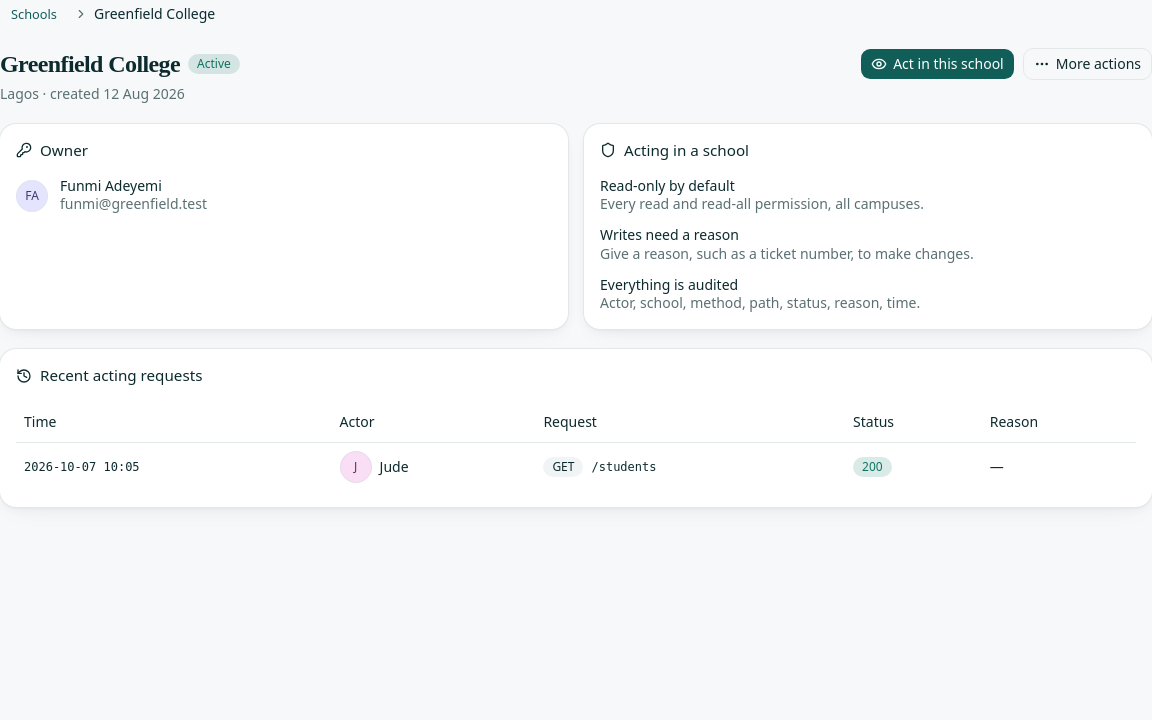
Test: Suspend dialog › shows a 409 and stays open
Click the button "More actions" at (1087, 64), box x1=1023 y1=48 x2=1151 y2=80
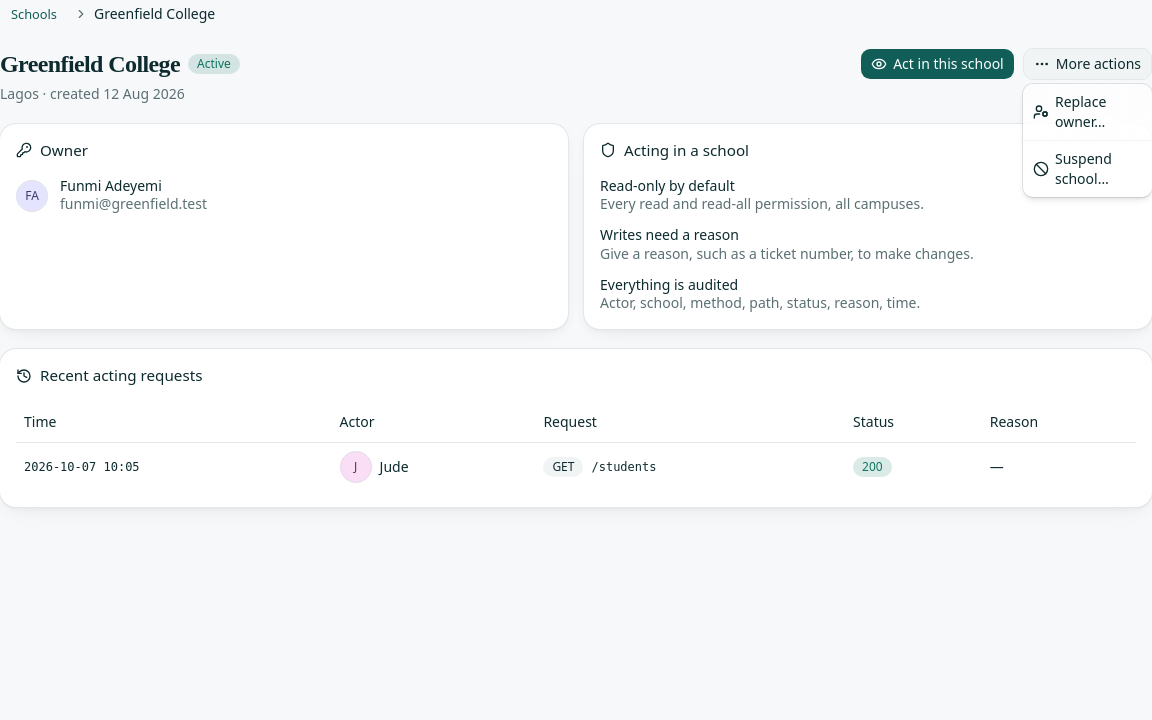
Click the menu item "Suspend school…" at (1072, 168), box x1=1033 y1=149 x2=1112 y2=188
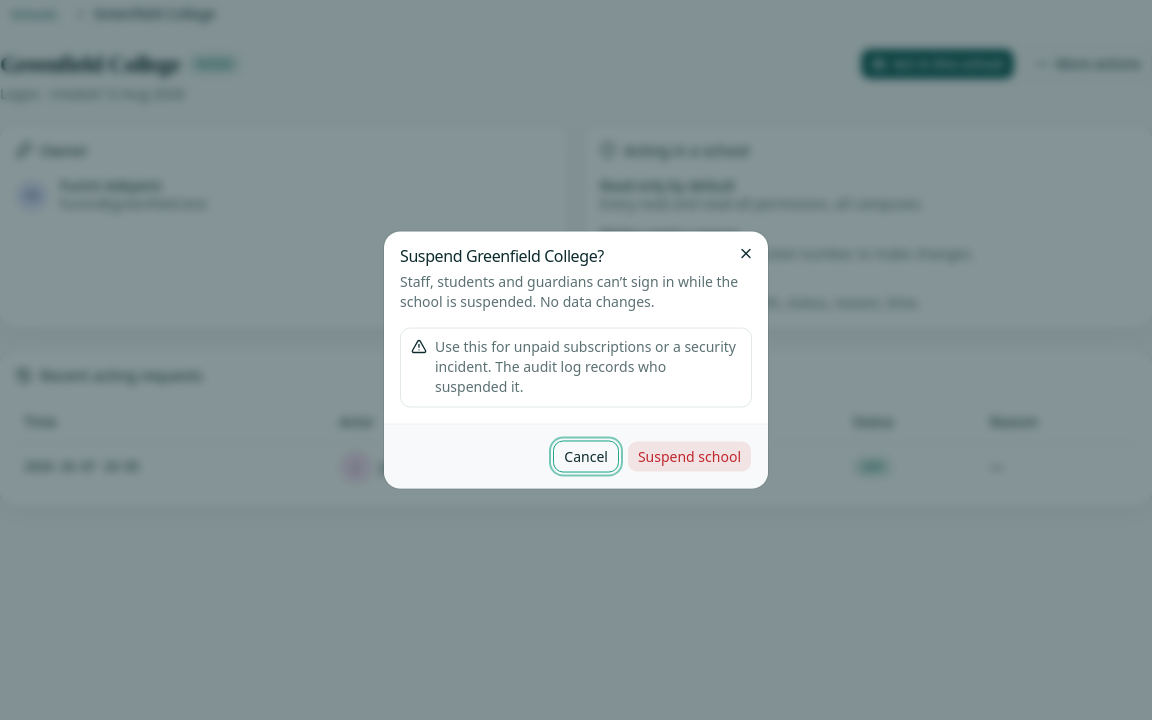
Click the button "Suspend school" at (689, 456), box x1=627 y1=440 x2=752 y2=472
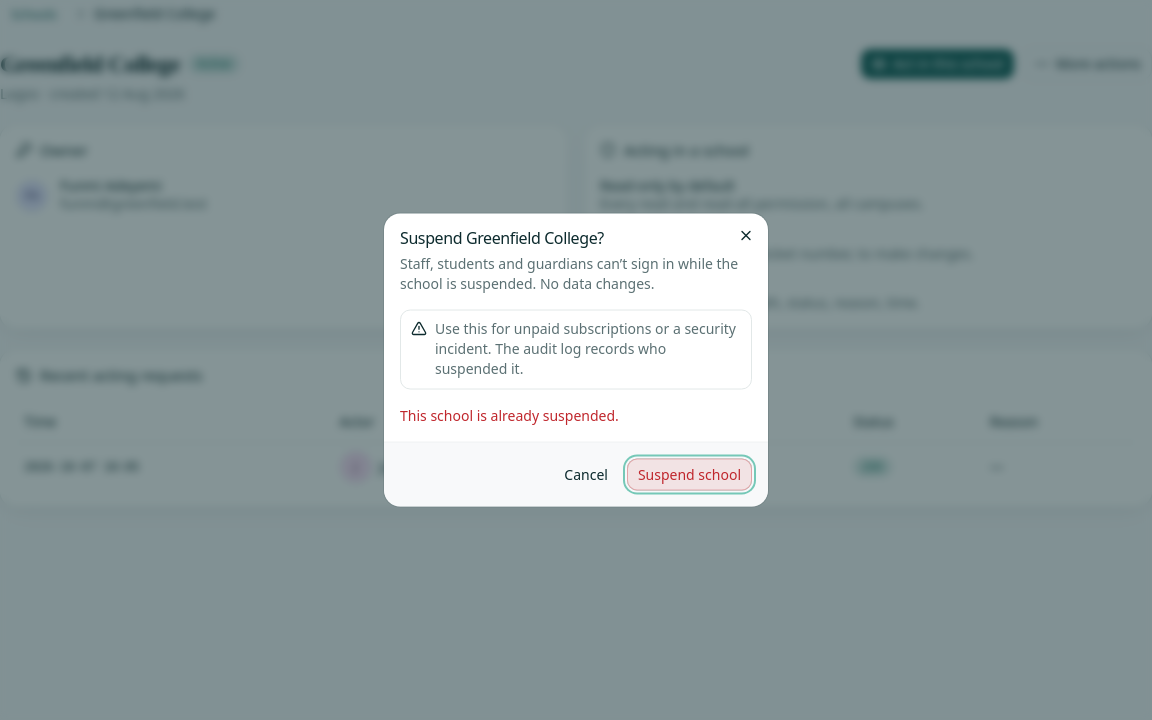
Expected: the dialog is shown, x1=384 y1=214 x2=768 y2=506
Expected: the text "This school is already suspended." is shown, x1=400 y1=406 x2=619 y2=424
